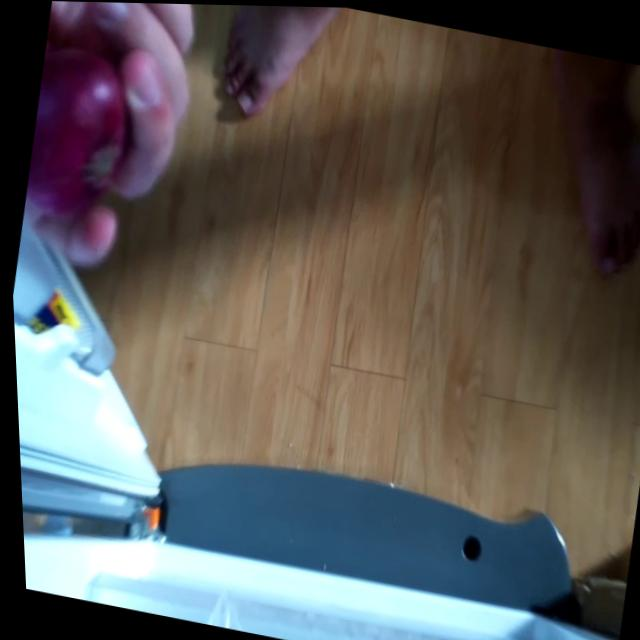onion: (16, 26, 148, 225)
